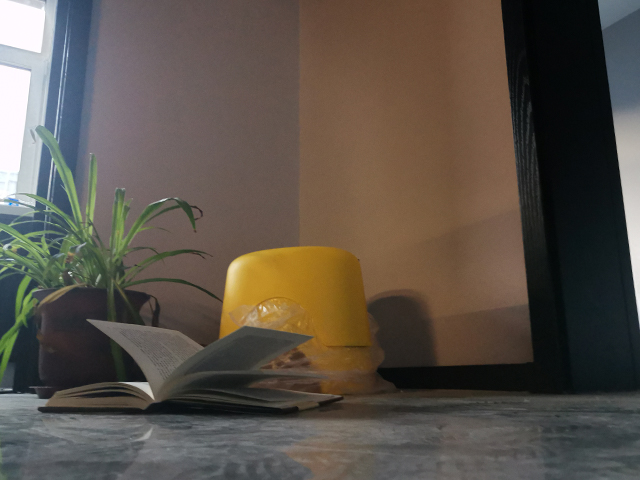book: (37, 317, 343, 416)
stool: (219, 245, 392, 398)
